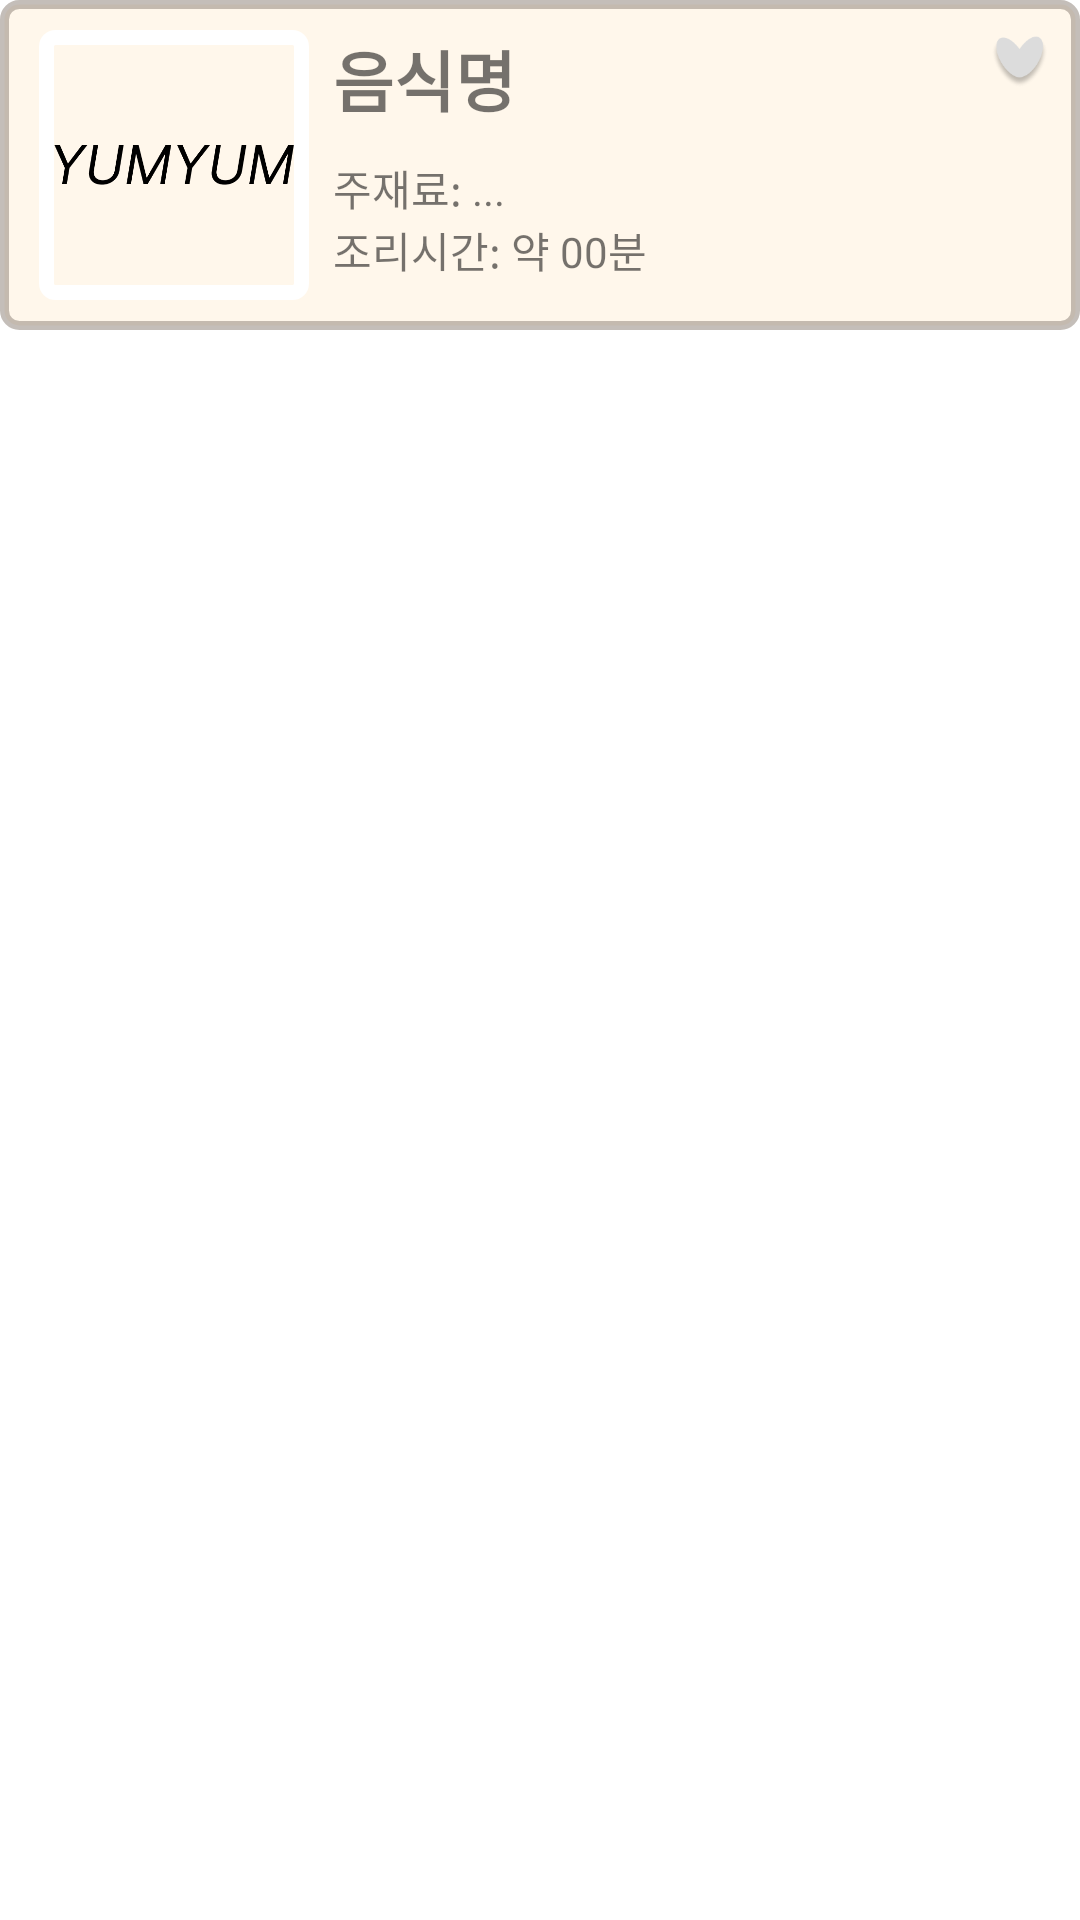

Named icons in this screenshot (1080px x 1920px) and their bounding boxes, (x1, y1, x2, y2):
grayheart: (996, 37, 1043, 83)
